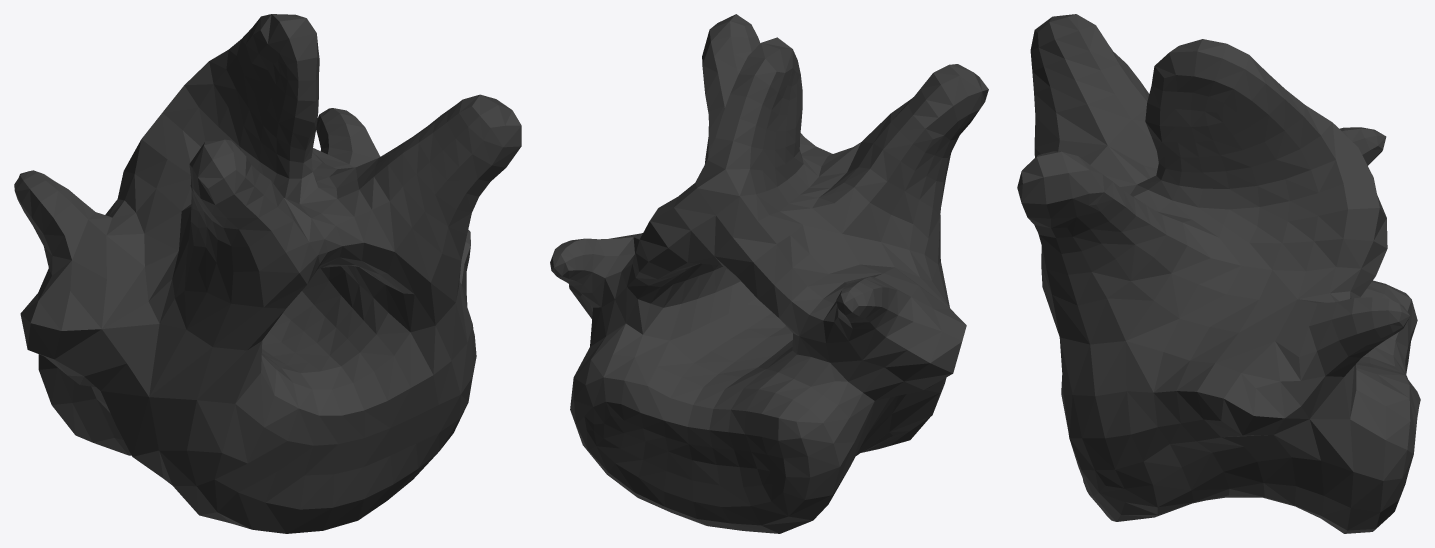
The picture shows the model from 3 angles, left to right: view 1: azimuth 30°, elevation 25°; view 2: azimuth 150°, elevation 25°; view 3: azimuth 270°, elevation 25°; orthographic projection. The views are drawn at different scales.
Parts seen in each view (by area): view 1: T12; view 2: T12; view 3: T12.
Boxes of the visible parts, x1=… form: T12: x1=14, y1=14, x2=521, y2=533; T12: x1=550, y1=14, x2=988, y2=533; T12: x1=1017, y1=14, x2=1420, y2=533.
Bounding box in the file's own units: 2.21 × 2.29 × 1.77.
Materials: 1 (1 with a texture image).
